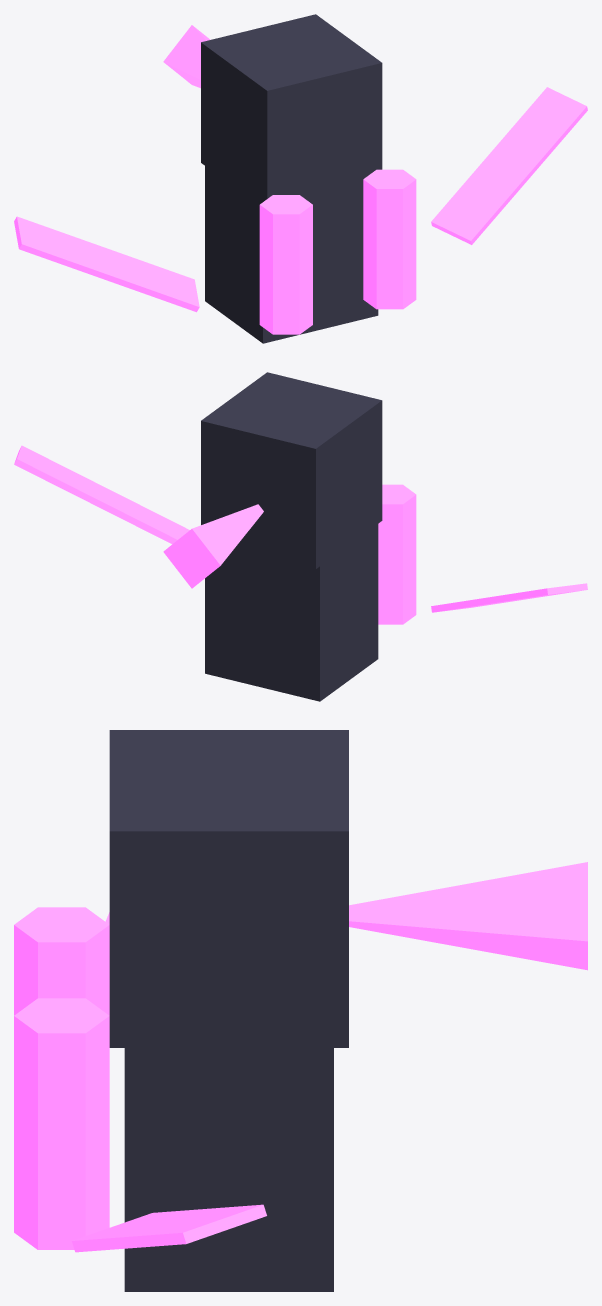
The model's file is enemy_tengu.glb.
3 views of the same model, one above another, from view 1: azimuth 30°, elevation 25°; view 2: azimuth 150°, elevation 25°; view 3: azimuth 270°, elevation 25° (orthographic). The views are drawn at different scales.
Parts seen in each view (by area): view 1: Cube, Cube.001, Cube.003, Cylinder.001, Cylinder, Cube.002, Cone; view 2: Cube, Cube.001, Cylinder, Cube.003, Cone, Cube.002; view 3: Cube, Cube.001, Cylinder.001, Cone, Cylinder, Cube.003.
Boxes of the visible parts, x1=… form: Cube: x1=201, y1=14, x2=382, y2=205; Cube.001: x1=205, y1=166, x2=378, y2=343; Cube.003: x1=431, y1=87, x2=587, y2=244; Cylinder.001: x1=363, y1=169, x2=416, y2=309; Cylinder: x1=259, y1=195, x2=312, y2=334; Cube.002: x1=14, y1=216, x2=199, y2=312; Cone: x1=163, y1=25, x2=210, y2=88; Cube: x1=201, y1=372, x2=382, y2=569; Cube.001: x1=205, y1=524, x2=378, y2=701; Cylinder: x1=378, y1=484, x2=416, y2=624; Cube.003: x1=14, y1=445, x2=189, y2=544; Cone: x1=163, y1=504, x2=263, y2=588; Cube.002: x1=431, y1=583, x2=587, y2=612; Cube: x1=109, y1=730, x2=348, y2=1047; Cube.001: x1=124, y1=1021, x2=333, y2=1291; Cylinder.001: x1=14, y1=998, x2=109, y2=1249; Cone: x1=349, y1=862, x2=587, y2=970; Cylinder: x1=14, y1=907, x2=109, y2=1015; Cube.003: x1=71, y1=1204, x2=266, y2=1252.
Size of the model in its own units: 1.98 by 0.85 by 0.96.
